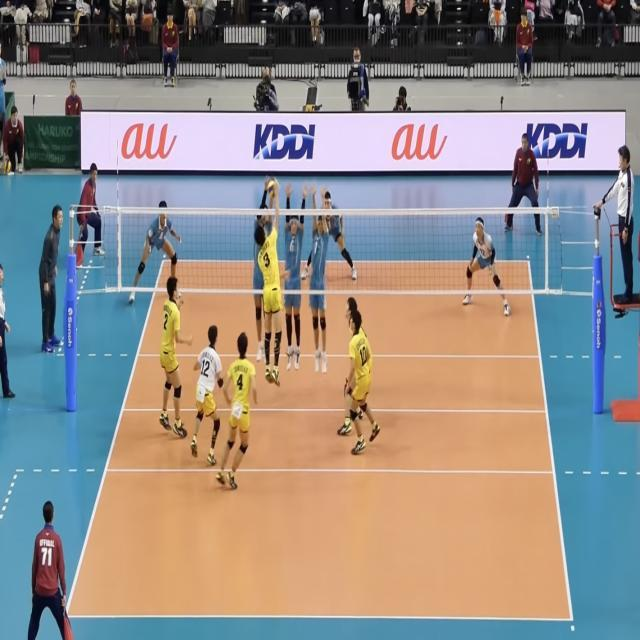spike: (250, 175, 284, 394)
